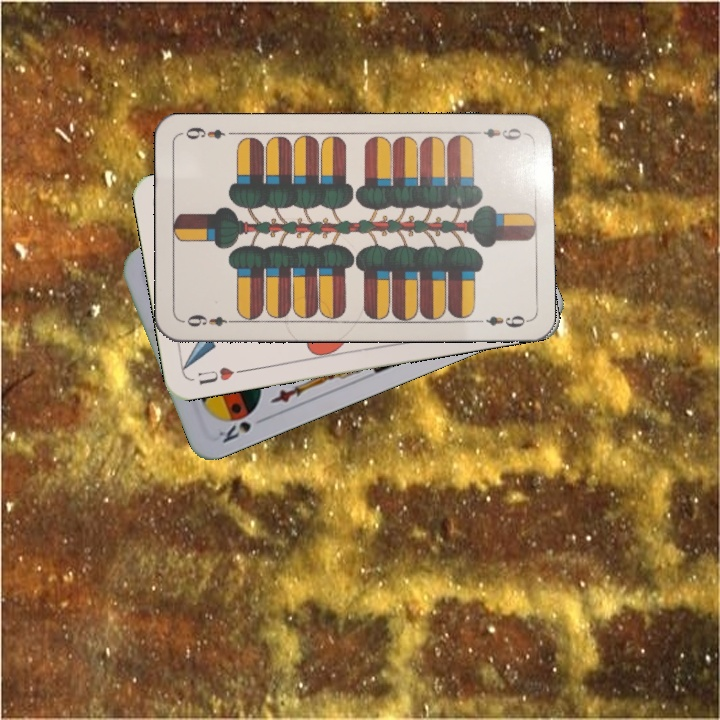E9: (180, 311, 239, 330), (469, 124, 524, 143)
HU: (193, 363, 248, 388)
SK: (214, 417, 254, 446)
